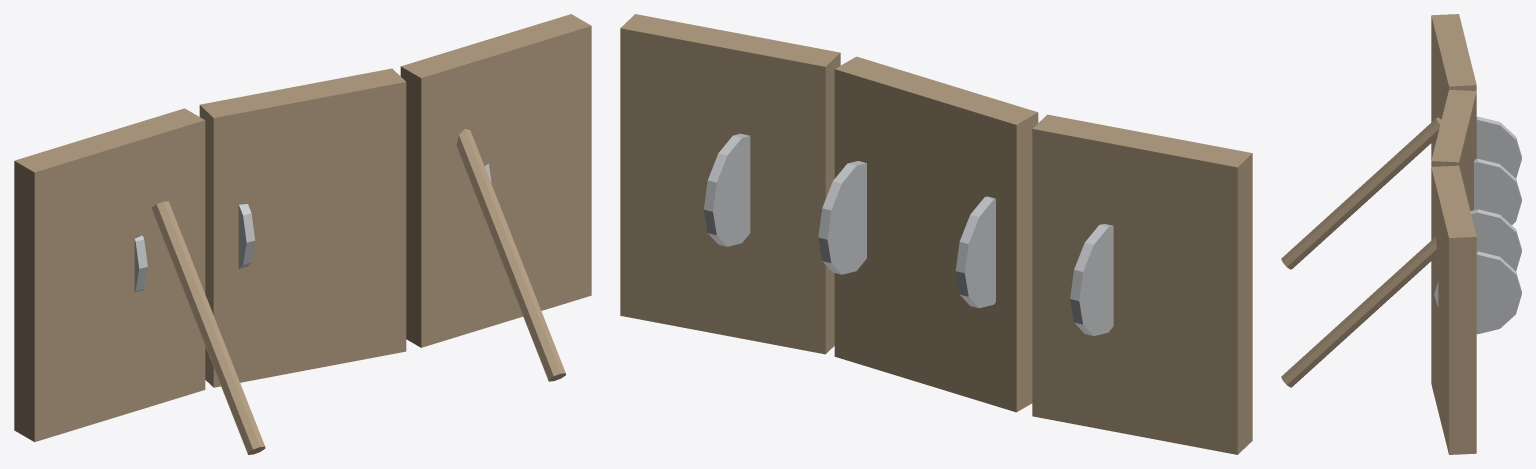
File: Barricade_Wood_Wire.fbx
The picture shows the model from 3 angles, left to right: view 1: azimuth 30°, elevation 25°; view 2: azimuth 150°, elevation 25°; view 3: azimuth 270°, elevation 25°; orthographic projection. The views are drawn at different scales.
Visible parts, largest first — view 1: Barricade_Wood_Wire; view 2: Barricade_Wood_Wire; view 3: Barricade_Wood_Wire.
Part boxes in pixels (x1,y1,x2,y2): Barricade_Wood_Wire: (14, 14, 591, 454); Barricade_Wood_Wire: (620, 14, 1252, 454); Barricade_Wood_Wire: (1281, 14, 1521, 454).
Size of the model in its own units: 2.66 by 1.2 by 1.21.
